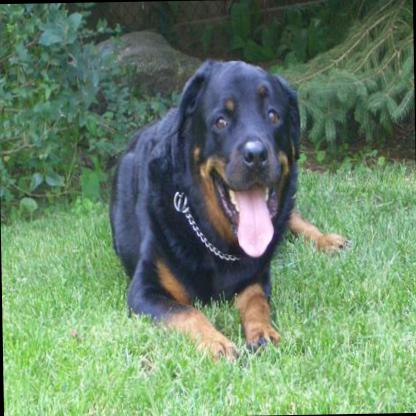Rottweiler: (104, 52, 350, 366)
